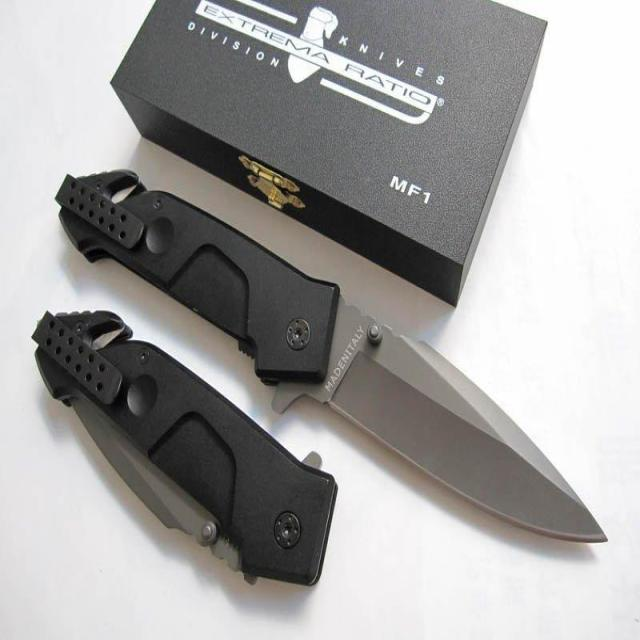knife: (54, 164, 612, 562)
